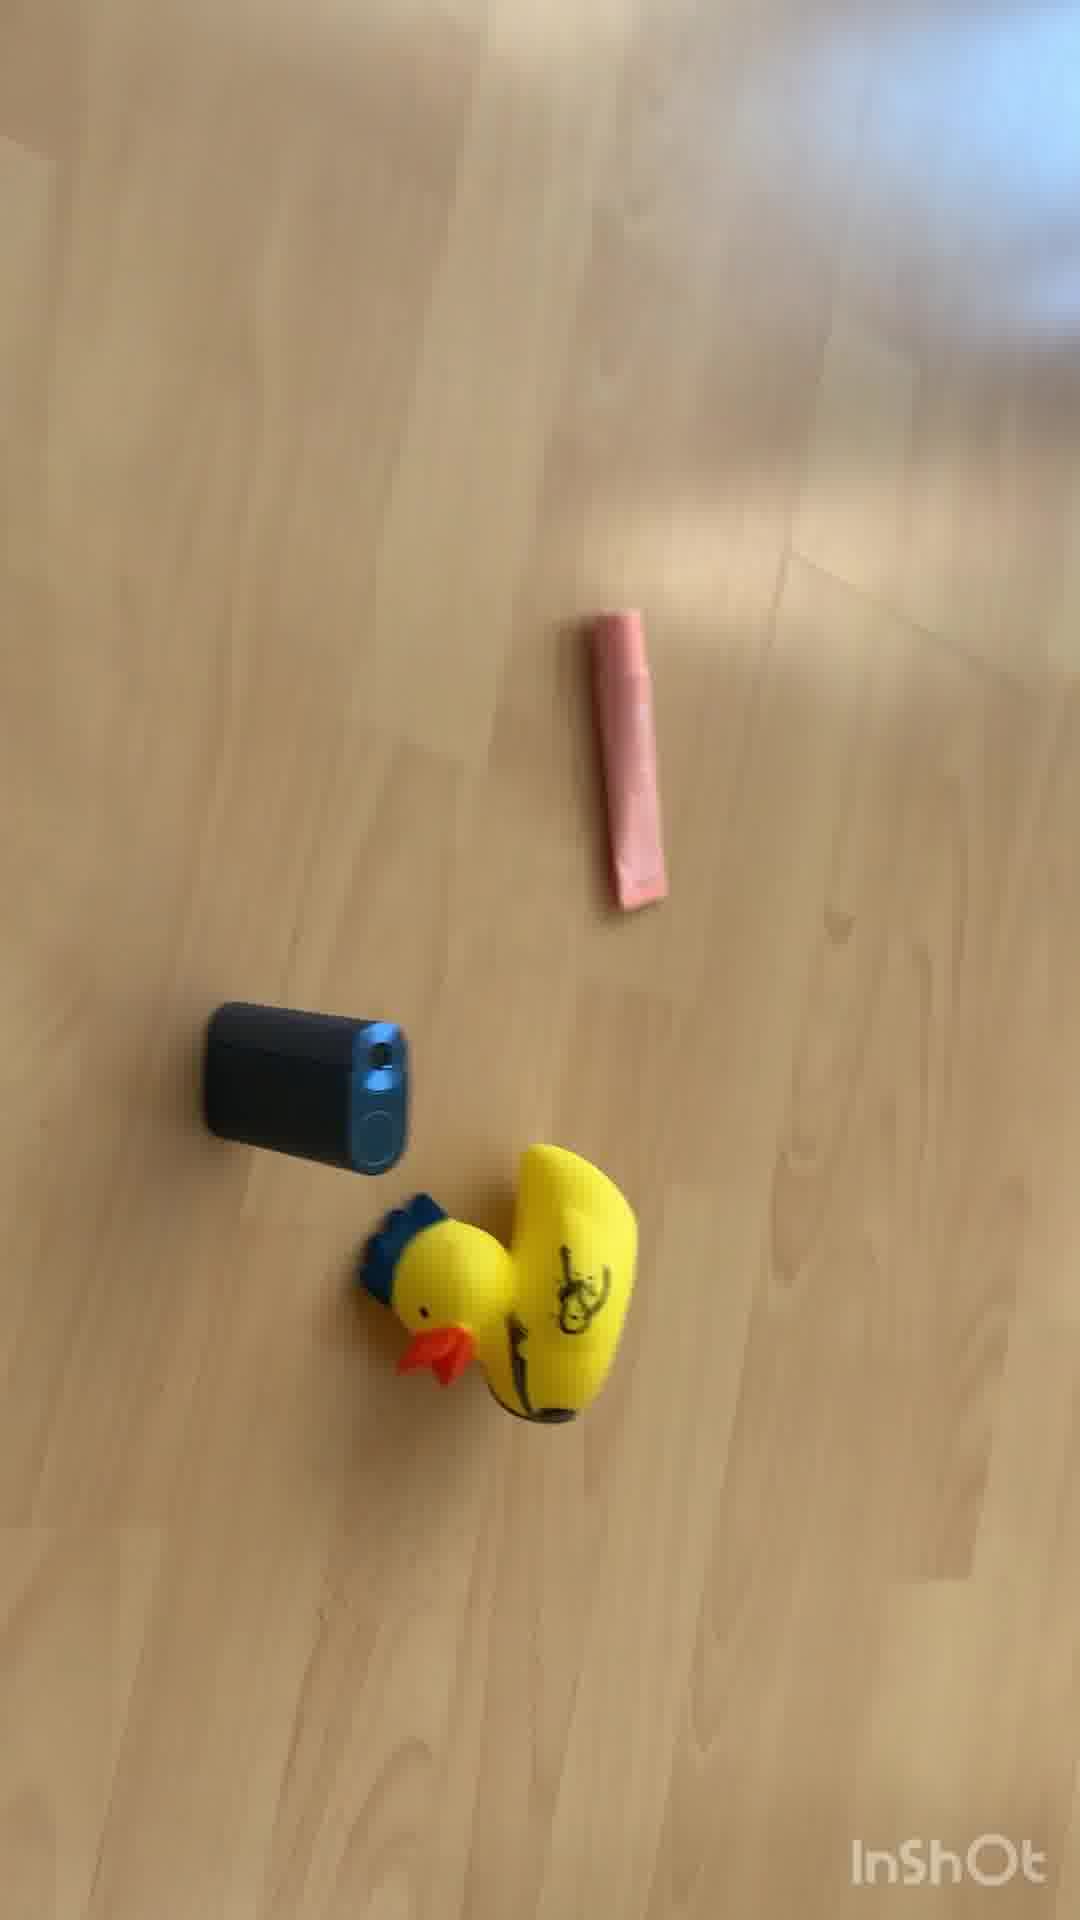duck: (349, 1124, 655, 1452)
glo: (203, 1005, 413, 1175)
lip balm: (582, 597, 654, 923)
